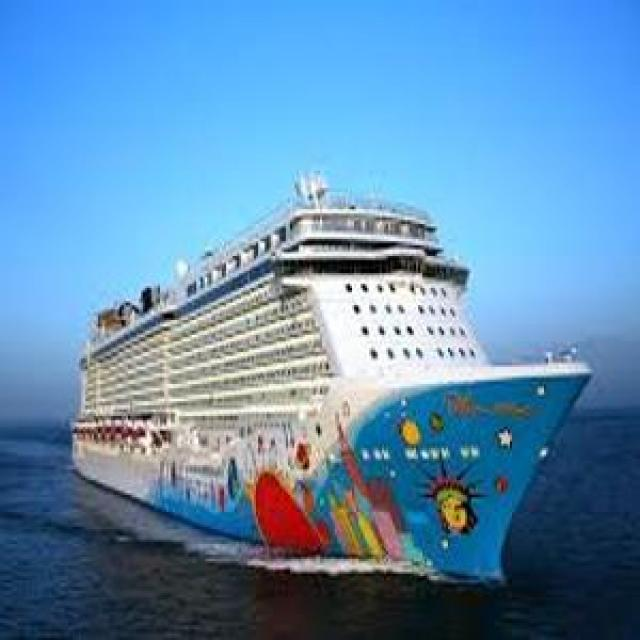passenger ship: (68, 176, 592, 584)
